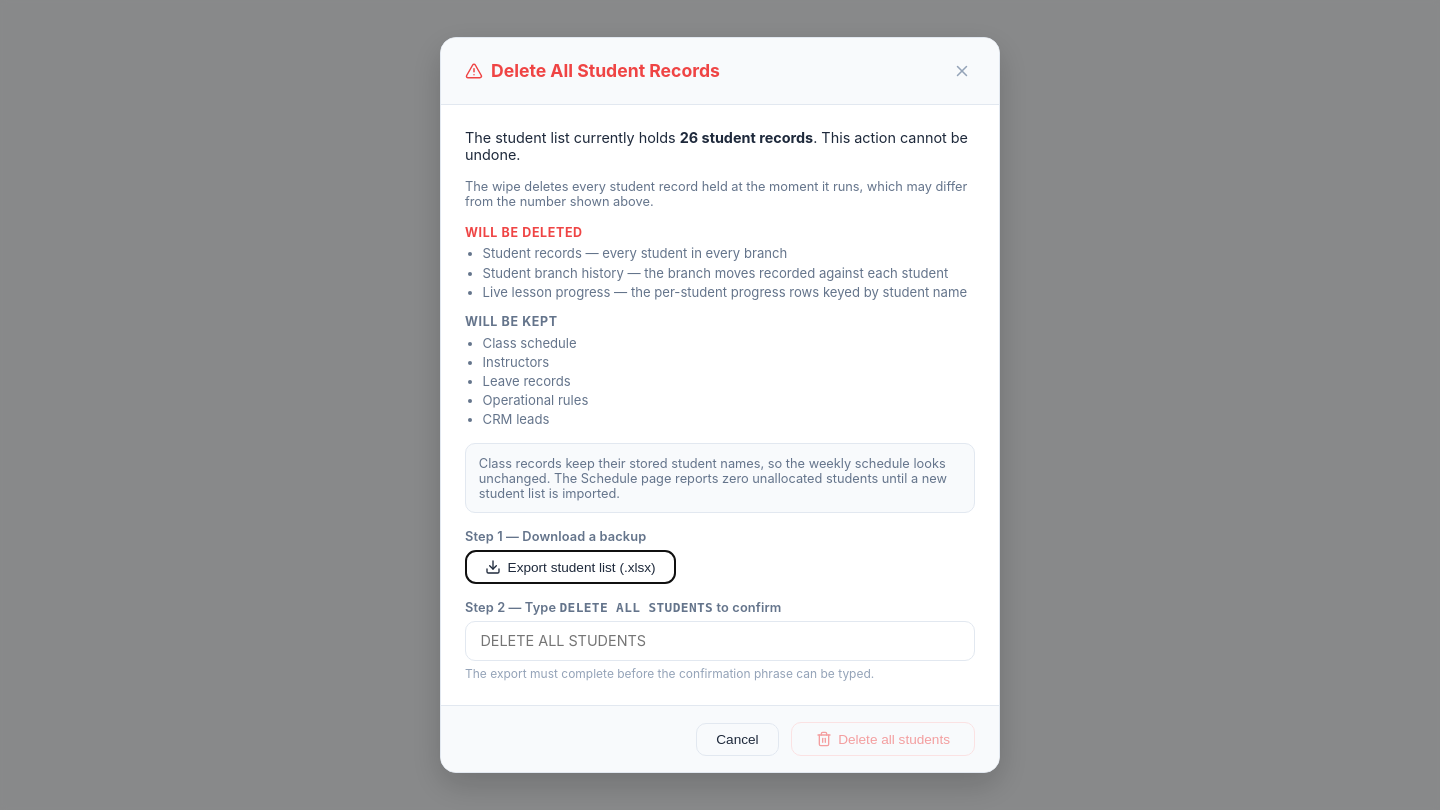
Test: WipeStudentsDialog export failures › reports the cause when the export throws, and arms nothing
The image size is (1440, 810).
Click the button "Export student list (.xlsx)" at (570, 567), box [465,550,676,584]
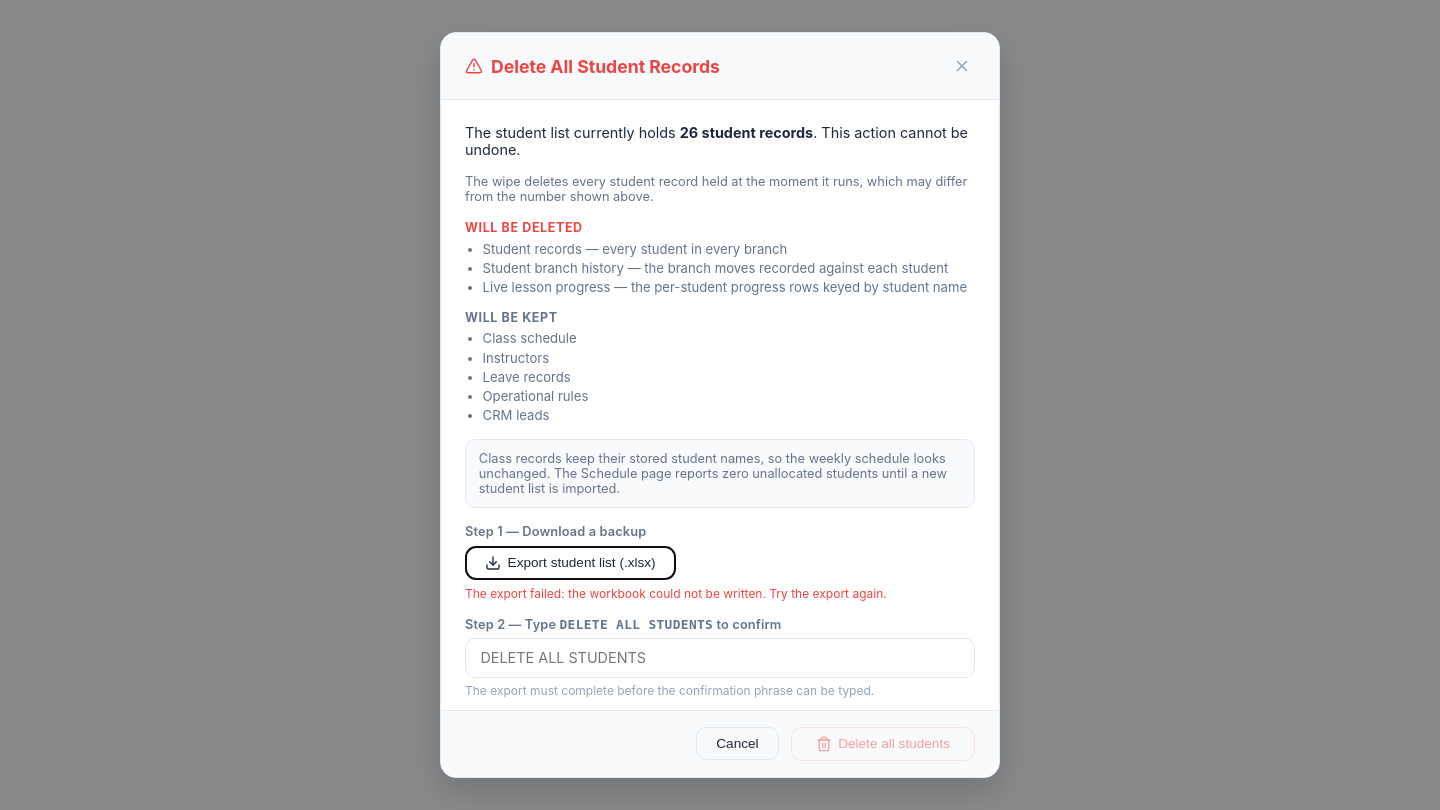
Expected: the field is disabled, [465,638,975,678]
Result: the message shows "The export failed" at [465,586,887,601]
Result: the message shows "the workbook could not be written" at [465,586,887,601]
